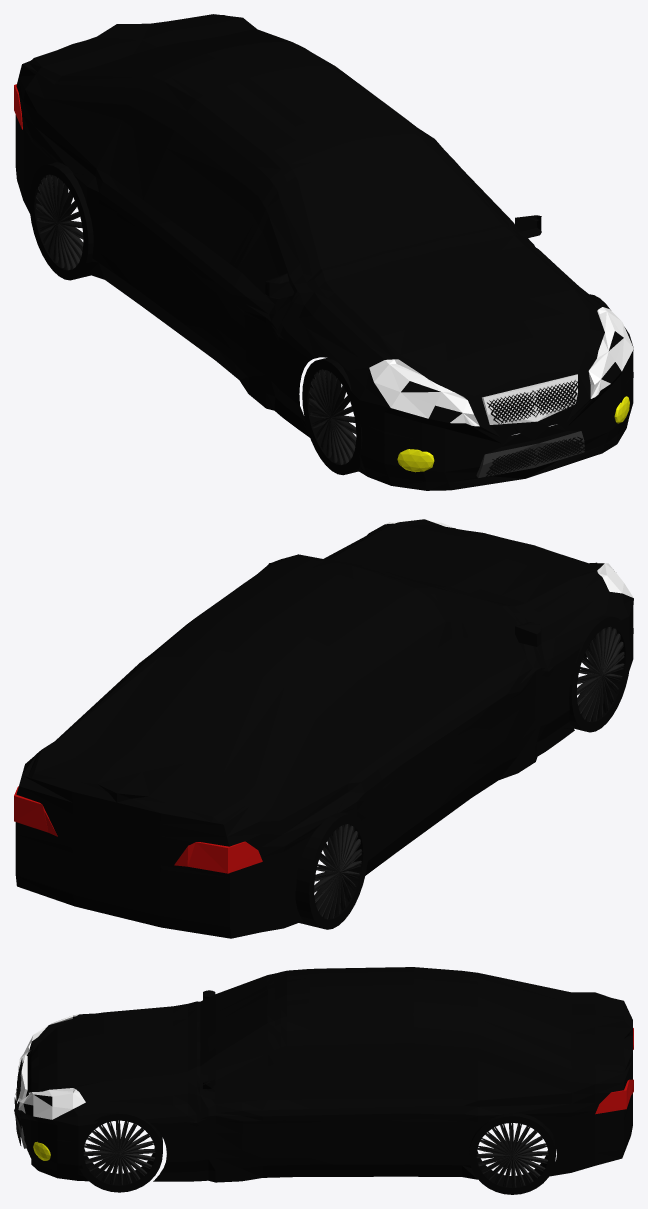
Rendered from CROWN.obj.
The picture shows the model from 3 angles, top to bottom: view 1: azimuth 30°, elevation 25°; view 2: azimuth 150°, elevation 25°; view 3: azimuth 270°, elevation 25°; orthographic projection. The views are drawn at different scales.
Visible parts, largest first — view 1: 立方体.001; view 2: 立方体.001; view 3: 立方体.001.
Boxes of the visible parts, x1,y1,x2,y2 form: 立方体.001: (14,14,633,490); 立方体.001: (14,519,633,938); 立方体.001: (14,967,633,1194).
Size of the model in its own units: 38.53 by 28.52 by 99.82.
